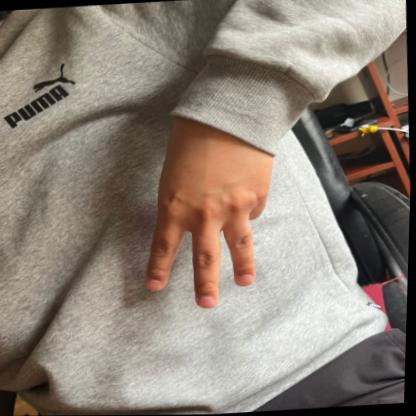M: (137, 75, 290, 315)
